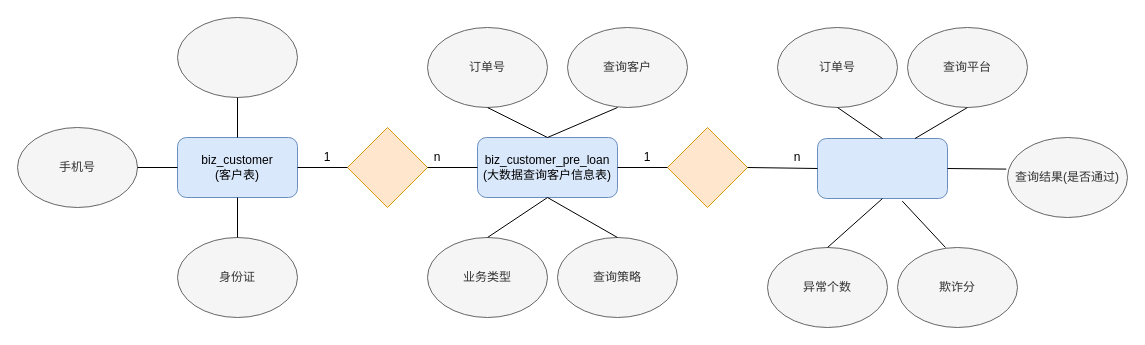
This 1145x345 diagram has some shape labels left out. Each missing label, with the centre of its shape:
"inf_pre_loan_platform (查询结果明细表)" belongs at [882,168].
"包含" belongs at [707,167].
"大数据查询" belongs at [387,167].
"姓名" belongs at [237,57].
